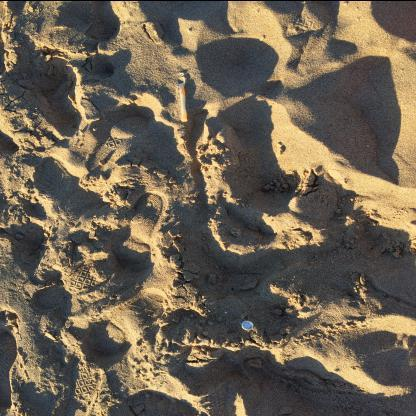diger: (177, 73, 187, 122)
plastik: (243, 321, 255, 331)
